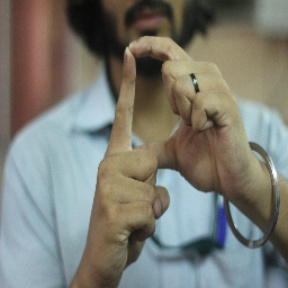D: (101, 33, 233, 191)
